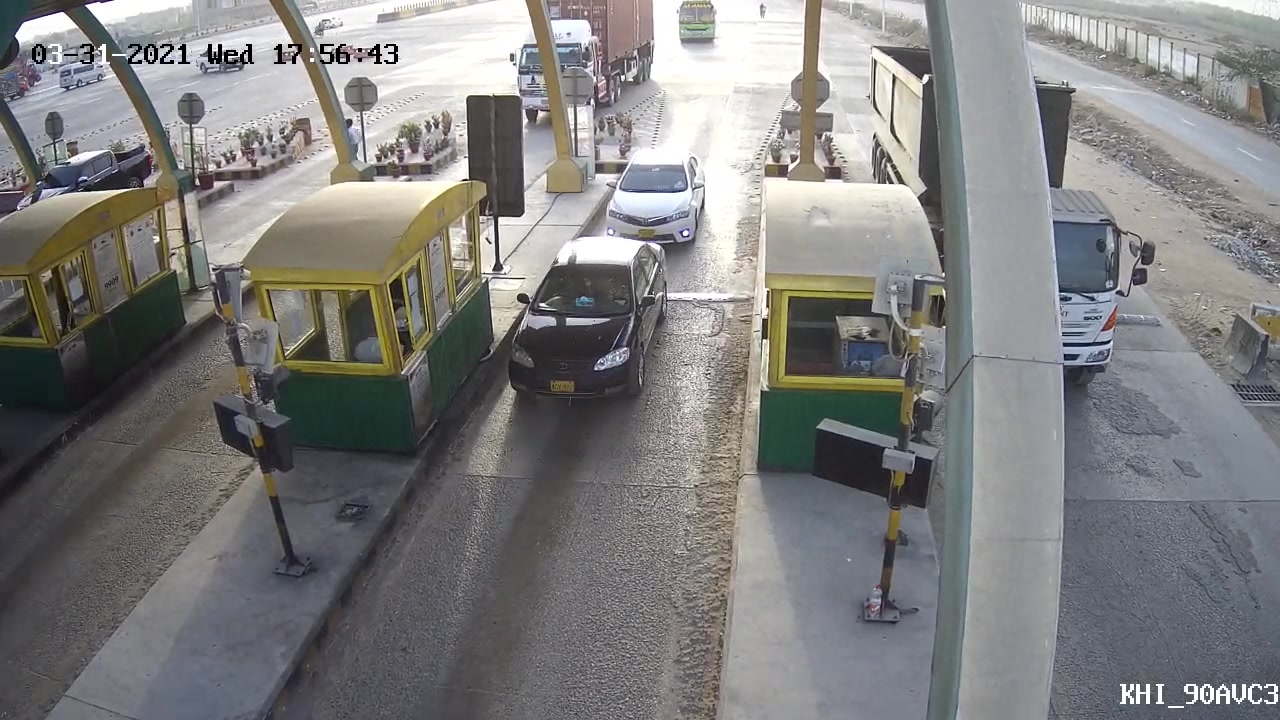F1: (495, 231, 670, 421)
